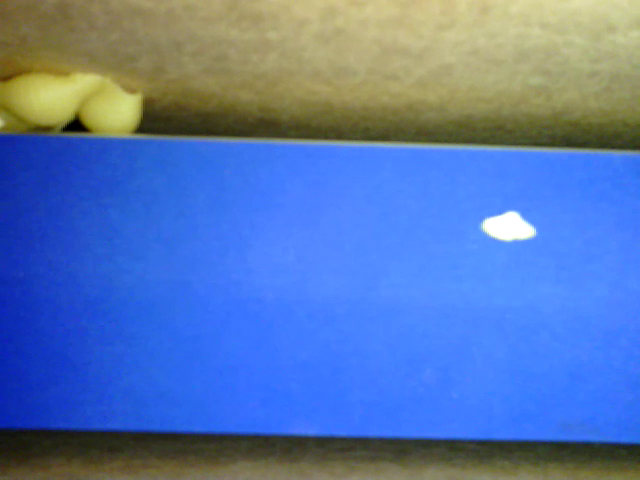shell: (1, 71, 101, 124), (78, 78, 146, 140), (1, 107, 68, 134)
